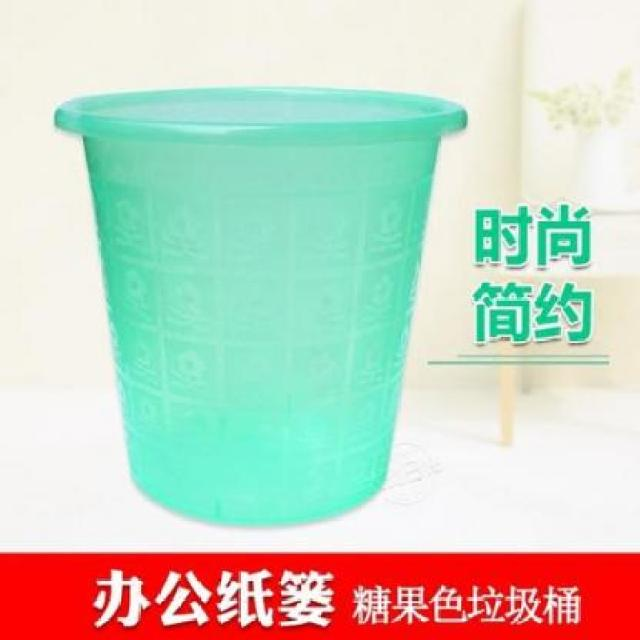dustbin: (48, 78, 472, 530)
